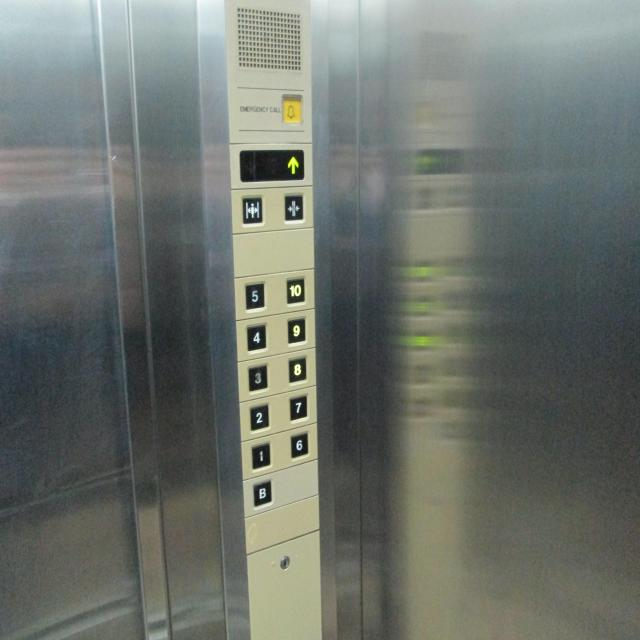1: (248, 440, 274, 474)
10: (285, 275, 306, 307)
2: (248, 402, 270, 433)
3: (246, 362, 270, 393)
4: (244, 322, 268, 354)
5: (243, 280, 267, 313)
6: (289, 430, 309, 460)
7: (287, 392, 307, 423)
8: (286, 354, 308, 385)
9: (286, 315, 306, 346)
B: (250, 478, 274, 509)
alarm: (281, 93, 304, 126)
close: (284, 192, 304, 224)
keyhole: (280, 555, 290, 570)
led: (239, 149, 305, 182)
open: (240, 195, 266, 227)
